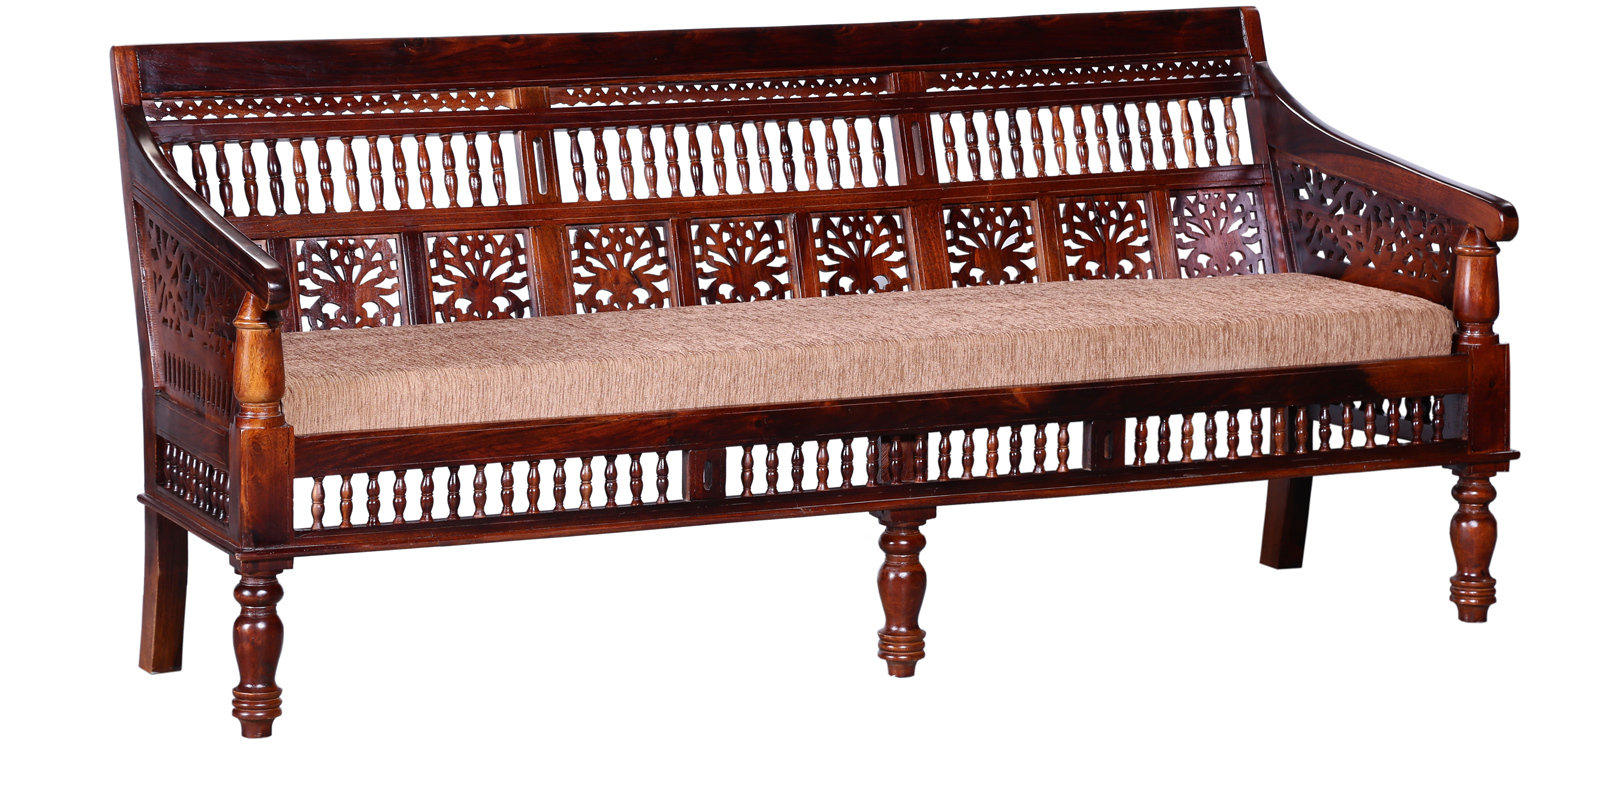Maurya Handcrafted Three Seater Sofa in Honey Oak Finish by Mudramark: (110, 6, 1518, 739)
